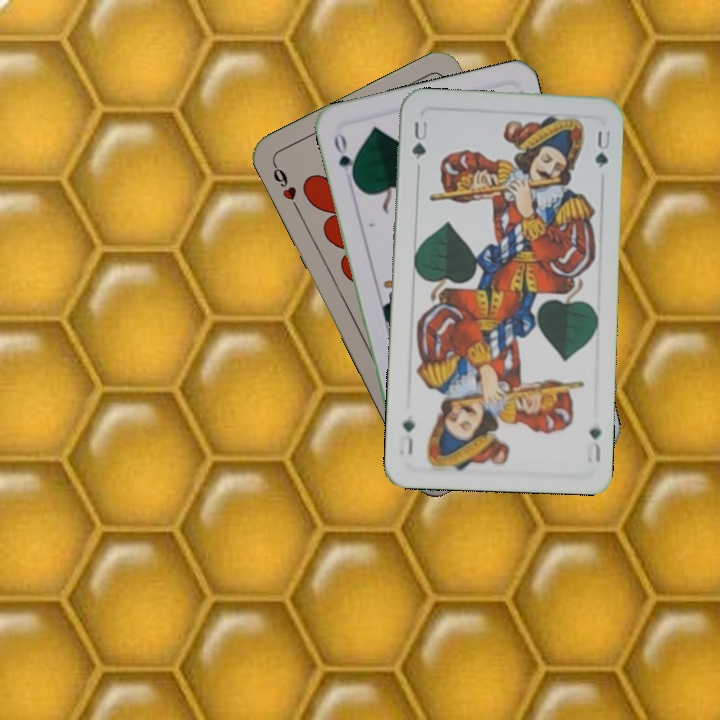GO: (329, 127, 358, 185)
GU: (408, 117, 430, 163), (582, 423, 604, 465)
H9: (269, 159, 302, 214)
